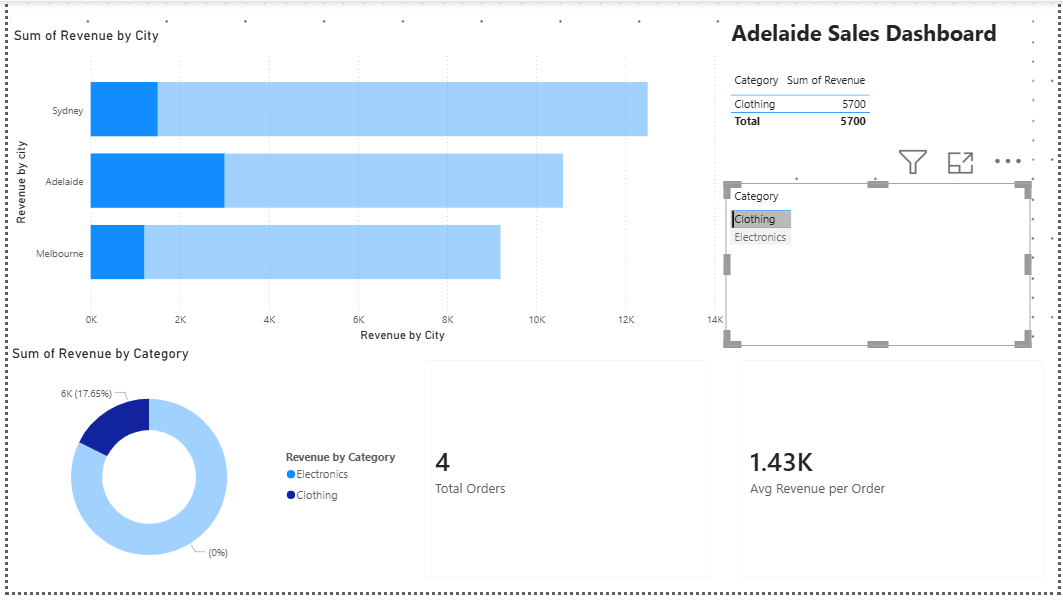

The dashboard page shown, as its layout file describes it:
{"tool":"powerbi","page":{"name":"Page 1","canvas":[1280,720],"ordinal":0},"visuals":[{"type":"clusteredBarChart","fields":{"Category":["Sheet1.City"],"Y":["Sum(Sheet1.Revenue)"]},"box":[2,32,874,388],"z":0},{"type":"donutChart","fields":{"Category":["Sheet1.Category"],"Y":["Sum(Sheet1.Revenue)"]},"box":[0,388,490,332],"z":1000},{"type":"tableEx","fields":{"Values":["Sheet1.Category","Sum(Sheet1.Revenue)"]},"box":[874,80,374,114],"z":2000},{"type":"cardVisual","fields":{"Data":["Sheet1.Avg Revenue per Order"]},"box":[790,420,490,300],"z":2001},{"type":"cardVisual","fields":{"Data":["Sheet1.Total Orders"]},"box":[490,388,412,332],"z":2002},{"type":"textbox","box":[876,14,372,66],"z":2003},{"type":"tableEx","fields":{"Values":["Sheet1.Category"]},"box":[876,194,372,198],"z":2004}]}

Visuals, with their boxes on the page's 1280x720 design canvas (x1, y1, x2, y2). These are canvas units, not pixel positions in the 1063x600 screenshot, which may show the page scaled, cropped or inside an application window:
clusteredBarChart - Sheet1.City x Sum(Sheet1.Revenue): {"left": 2, "top": 32, "right": 876, "bottom": 420}
donutChart - Sheet1.Category x Sum(Sheet1.Revenue): {"left": 0, "top": 388, "right": 490, "bottom": 720}
tableEx - Sheet1.Category x Sum(Sheet1.Revenue): {"left": 874, "top": 80, "right": 1248, "bottom": 194}
cardVisual - Sheet1.Avg Revenue per Order: {"left": 790, "top": 420, "right": 1280, "bottom": 720}
cardVisual - Sheet1.Total Orders: {"left": 490, "top": 388, "right": 902, "bottom": 720}
textbox: {"left": 876, "top": 14, "right": 1248, "bottom": 80}
tableEx - Sheet1.Category: {"left": 876, "top": 194, "right": 1248, "bottom": 392}
